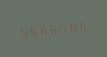eight: (37, 21, 46, 37), (67, 18, 76, 34)
five: (17, 23, 26, 39), (57, 19, 66, 35)
six: (77, 17, 86, 34), (27, 22, 36, 38), (47, 20, 56, 36)
